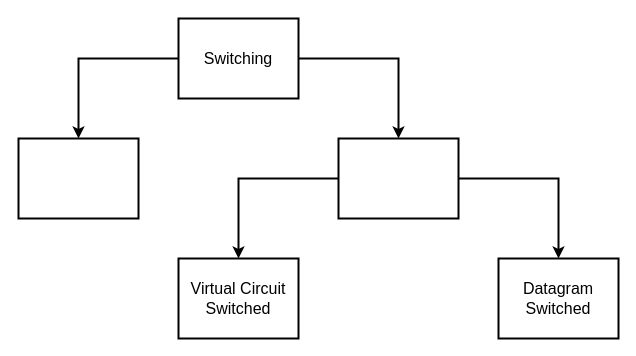
The diagram is 636 pixels wide and 356 high, and some of its shapes have lost their labels. Each missing label, with the centre of its shape:
"Circuit Switched" belongs at pixel 78 178.
"Packet Switched" belongs at pixel 398 178.
